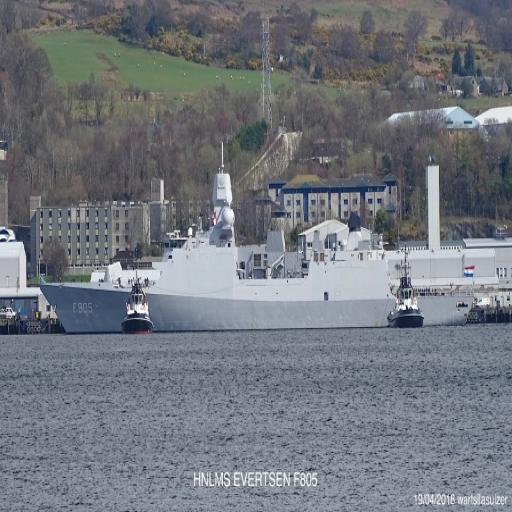Fragata: (35, 126, 506, 340)
